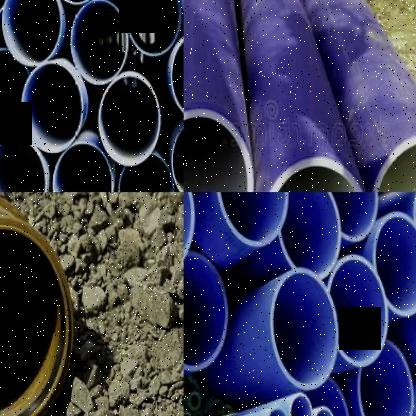pipe: (0, 216, 72, 416), (270, 268, 338, 390), (327, 255, 388, 368), (184, 107, 254, 192), (98, 72, 160, 166), (21, 61, 84, 152), (279, 192, 342, 279), (184, 253, 228, 372), (70, 0, 128, 85), (373, 212, 416, 316), (356, 340, 413, 416), (1, 0, 63, 66), (258, 156, 371, 192), (216, 192, 288, 247), (126, 0, 182, 56), (320, 192, 379, 243), (52, 142, 112, 192), (0, 48, 30, 134), (0, 138, 47, 192), (118, 153, 174, 192), (171, 31, 183, 121), (289, 392, 313, 416), (46, 0, 105, 5), (313, 405, 336, 416), (189, 390, 200, 410), (183, 410, 193, 416)
